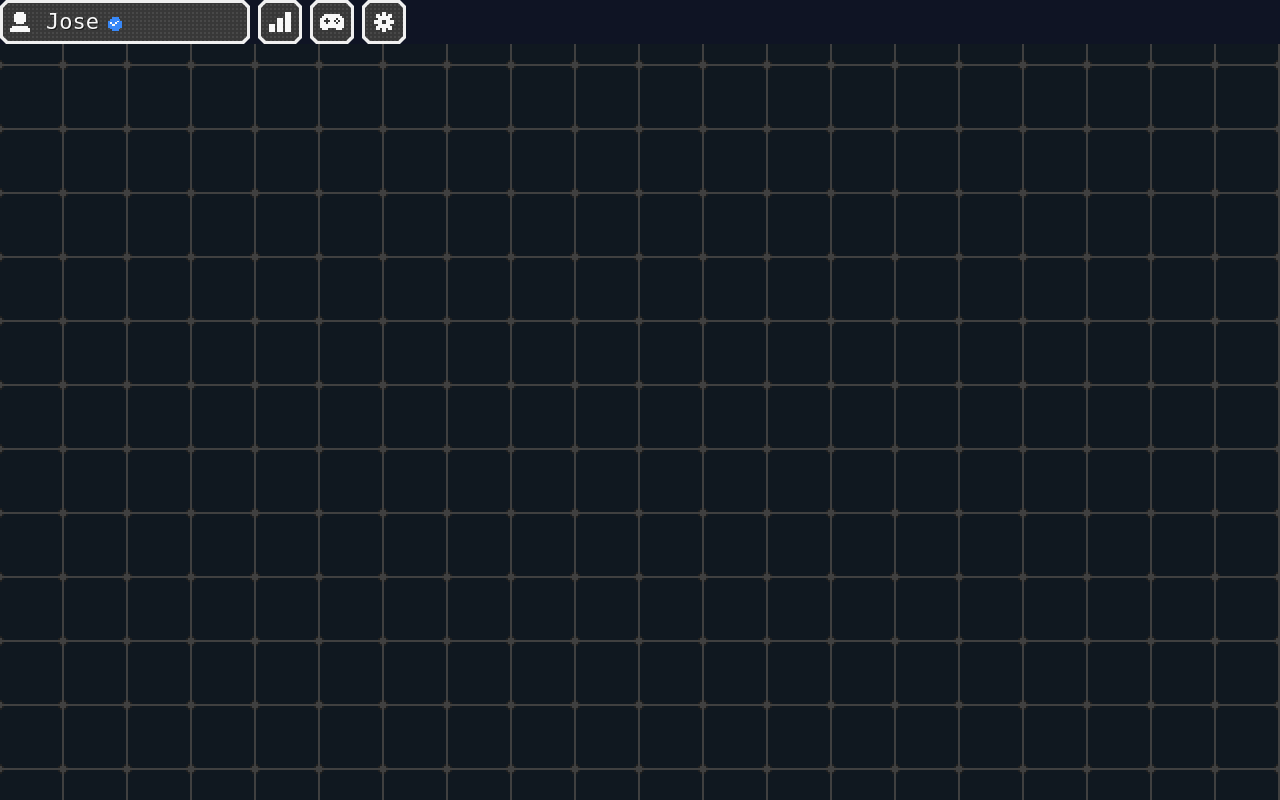
Test case: cuenta en la interfaz (UT-100) › Rankings por páginas de 20: se abre en la del jugador, se pasa de página y se vuelve a la suya (RF-108)
The image size is (1280, 800).
What coordinates should you click on to do the following:
click the button named "Estadísticas"
I would click on:
 (280, 22)
Its box is [258, 0, 302, 44].
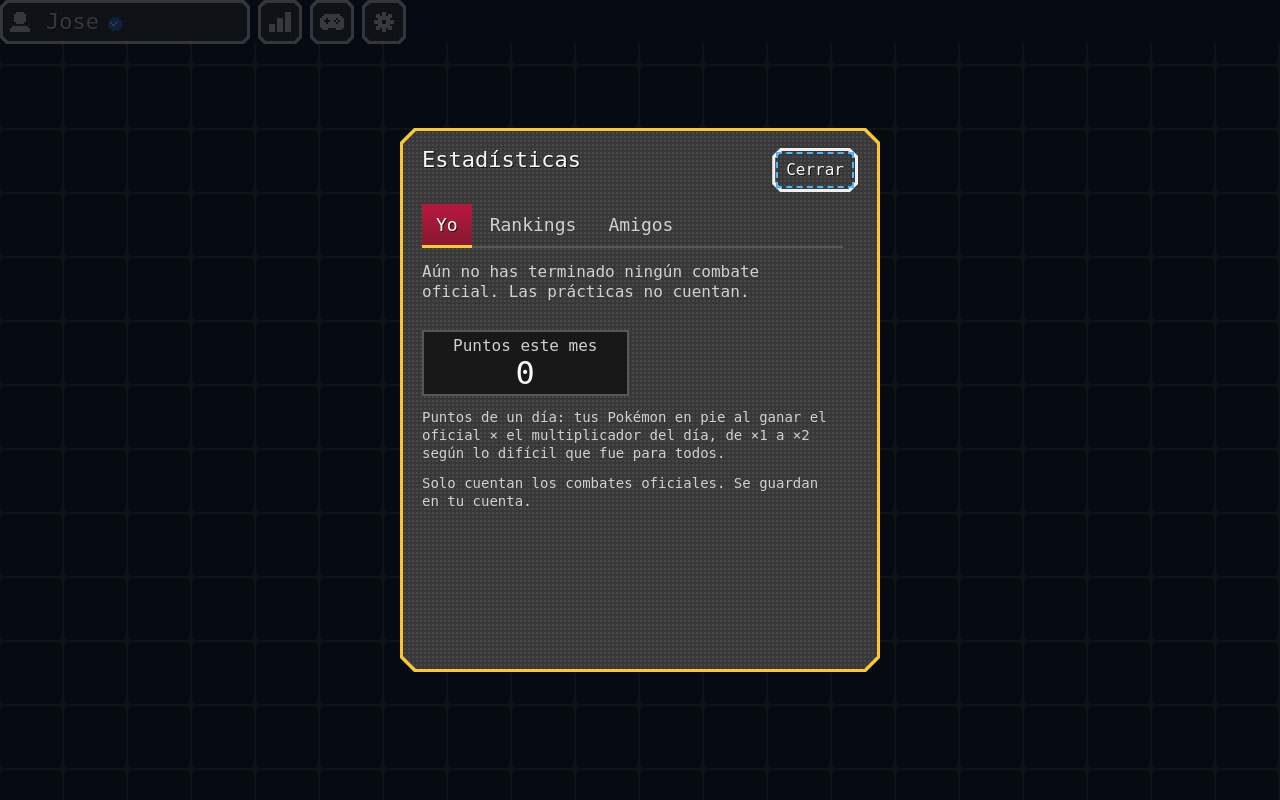
What coordinates should you click on to do the following:
click the tab "Rankings"
I would click on:
 (533, 226)
Its box is [476, 204, 590, 248].
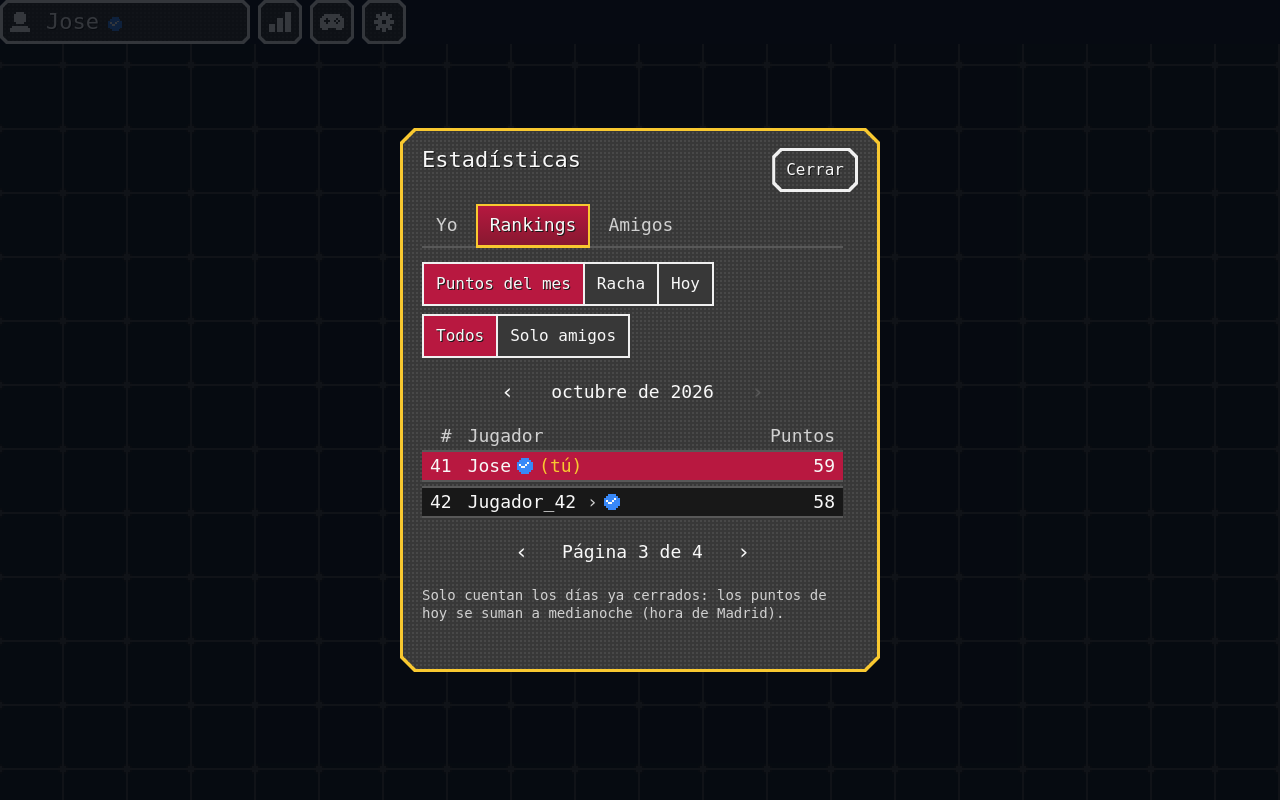
Expected: the button "Ir a mi posición" is not shown
Now the navigation bar named "Páginas del ranking" shows "Página 3 de 4", box [562, 541, 703, 562]
What coordinates should you click on to do the following:
click the button named "Página siguiente"
I would click on:
 (744, 552)
Its box is [722, 530, 766, 574].
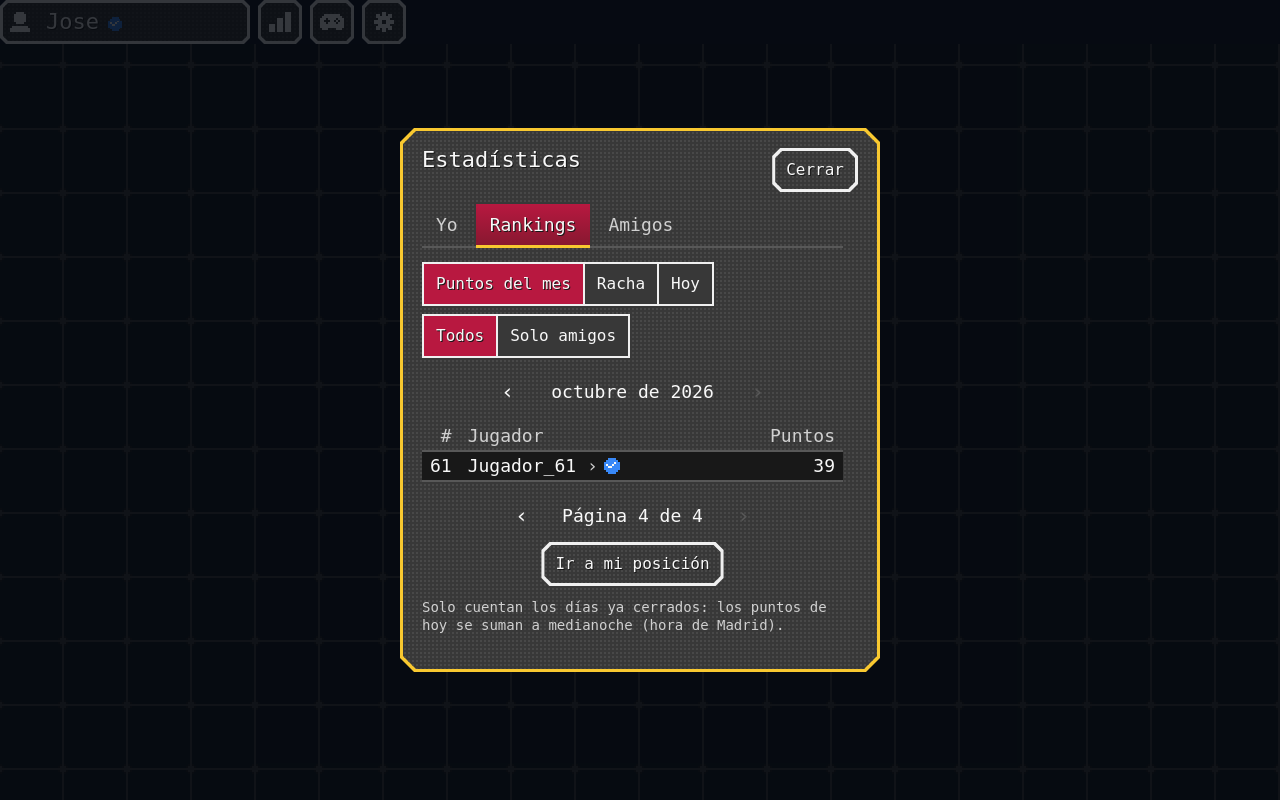
Now the button "Jugador_61" is shown, box [468, 456, 598, 480]
Now the button named "Página siguiente" is disabled, box [722, 494, 766, 538]
What coordinates should you click on to do the following:
click the button "Ir a mi posición"
I would click on:
 (632, 564)
Its box is [541, 542, 724, 586].
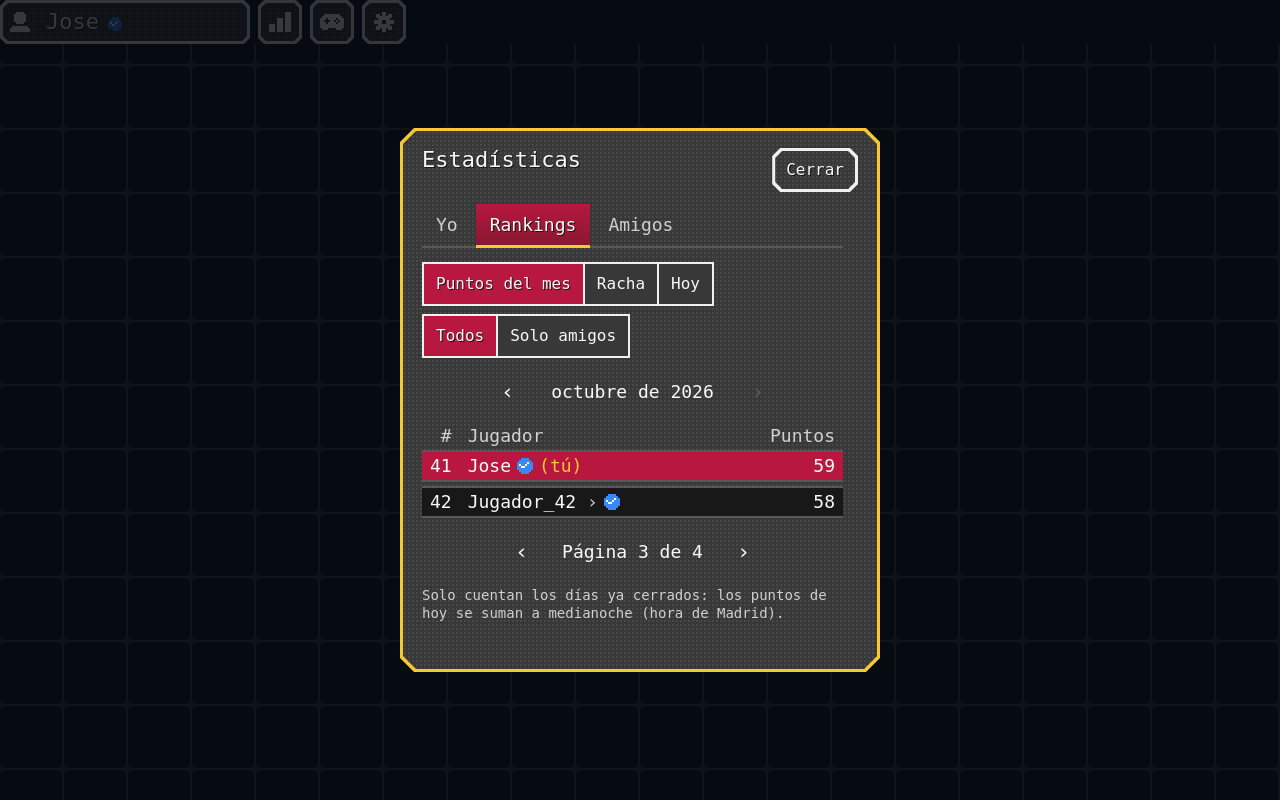
Now the button "Jugador_42" is shown, box [468, 492, 598, 516]
